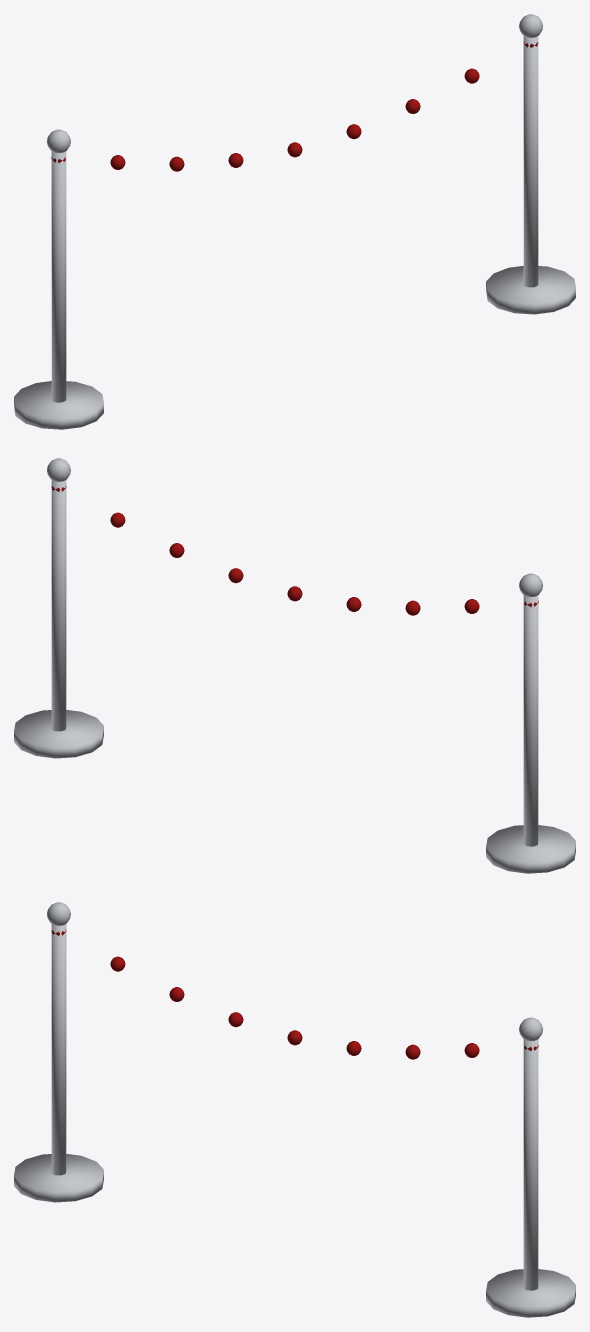
The model's file is stanchions.glb.
The picture shows the model from 3 angles, top to bottom: view 1: azimuth 30°, elevation 25°; view 2: azimuth 150°, elevation 25°; view 3: azimuth 330°, elevation 25°; orthographic projection.
Parts seen in each view (by area): view 1: stanchions; view 2: stanchions; view 3: stanchions.
Part boxes in pixels (x1,y1,x2,y2): stanchions: [14, 14, 575, 429]; stanchions: [14, 458, 575, 873]; stanchions: [14, 902, 575, 1317].
Size of the model in its own units: 2.09 by 1.02 by 0.3.
1 material, 1 textured.
